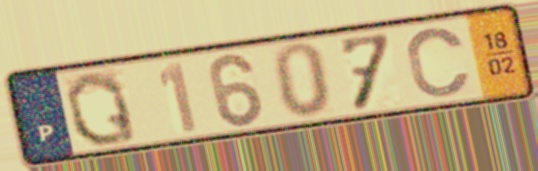0: (270, 39, 338, 122)
1: (157, 59, 199, 135)
6: (205, 50, 267, 129)
7: (337, 29, 394, 113)
C: (404, 24, 475, 100)
Q: (62, 68, 141, 149)
